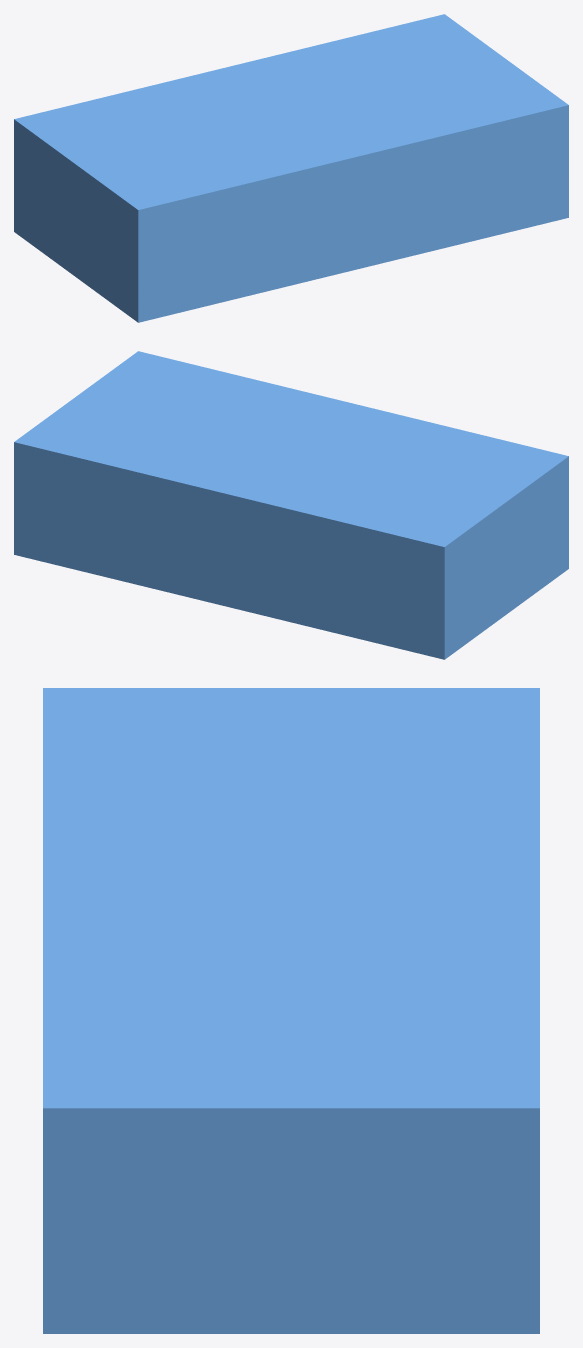
File: car.glb
The picture shows the model from 3 angles, top to bottom: view 1: azimuth 30°, elevation 25°; view 2: azimuth 150°, elevation 25°; view 3: azimuth 270°, elevation 25°; orthographic projection. The views are drawn at different scales.
Parts seen in each view (by area): view 1: Mesh; view 2: Mesh; view 3: Mesh.
Boxes of the visible parts, x1=… form: Mesh: x1=14, y1=14, x2=568, y2=322; Mesh: x1=14, y1=351, x2=568, y2=659; Mesh: x1=43, y1=688, x2=539, y2=1333.
Size of the model in its own units: 2 by 0.5 by 1.
